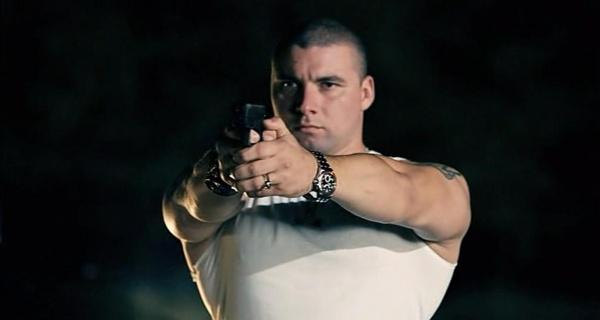Gun: (227, 100, 267, 143)
